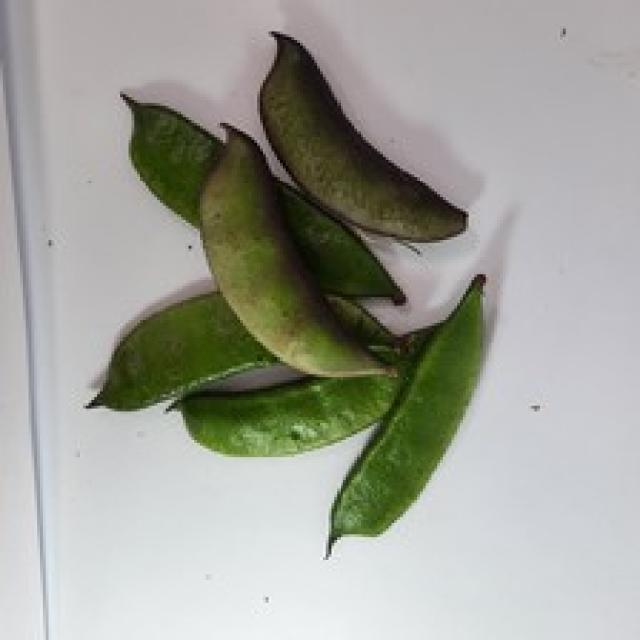Bean: (194, 120, 394, 380), (257, 28, 466, 243)
